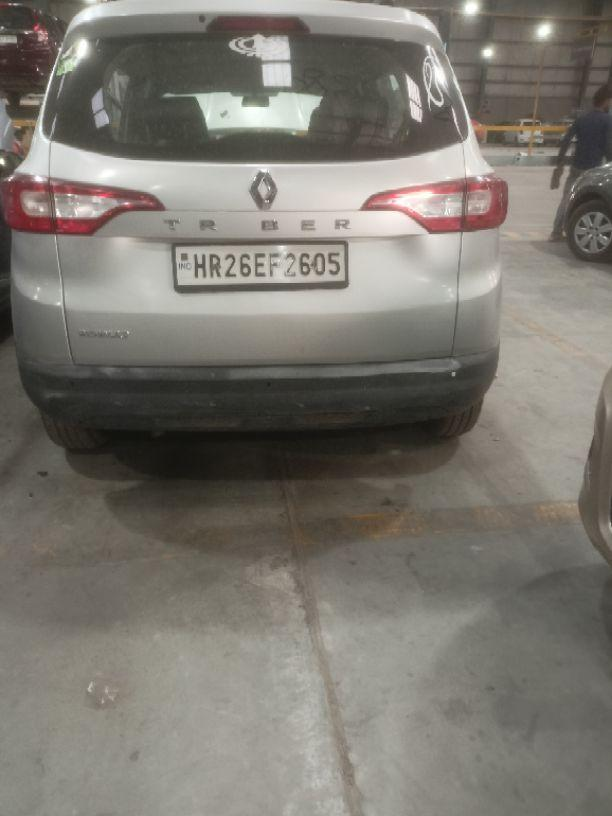license_plate: (171, 239, 349, 290)
